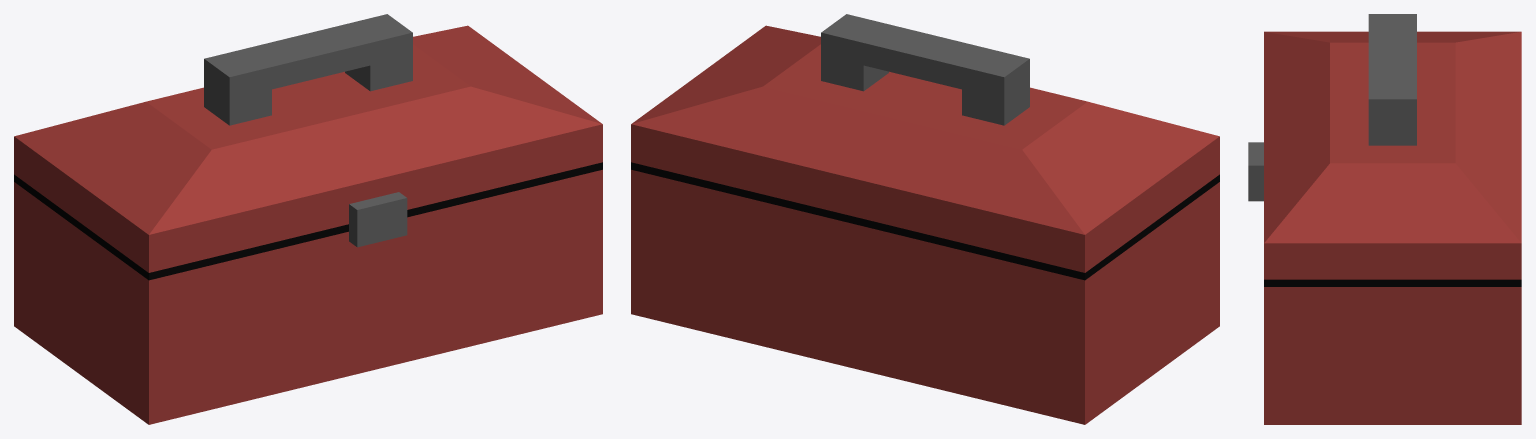
File: ToolboxRed.fbx
3 views of the same model, side by side, from view 1: azimuth 30°, elevation 25°; view 2: azimuth 150°, elevation 25°; view 3: azimuth 270°, elevation 25° (orthographic). The views are drawn at different scales.
Visible parts, largest first — view 1: ToolBoxTop, ToolBoxBottom; view 2: ToolBoxBottom, ToolBoxTop; view 3: ToolBoxTop, ToolBoxBottom.
Boxes of the visible parts, x1=… form: ToolBoxTop: x1=14, y1=14, x2=602, y2=272; ToolBoxBottom: x1=14, y1=162, x2=602, y2=424; ToolBoxBottom: x1=631, y1=162, x2=1219, y2=424; ToolBoxTop: x1=631, y1=14, x2=1219, y2=272; ToolBoxTop: x1=1248, y1=14, x2=1521, y2=279; ToolBoxBottom: x1=1264, y1=279, x2=1521, y2=424.
Size of the model in its own units: 0.6965 by 0.4027 by 0.3797.
